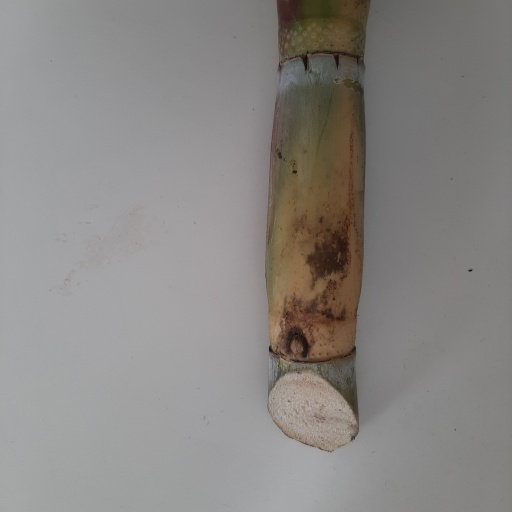Bud: (286, 332, 308, 361)
